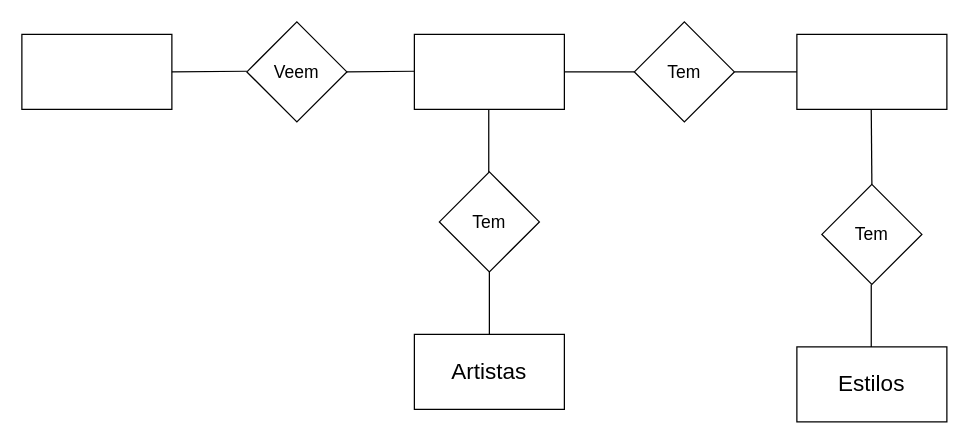
The diagram is 969 pixels wide and 444 high, and some of its shapes have lost their labels. The shapes that lost their labels are listed below. From the top down, each one's box as (x1, y1, x2, y2) in pixels, then its label:
(21, 33, 172, 109): Usuarios
(413, 33, 564, 109): Albuns
(796, 33, 947, 109): Estilo de Album
